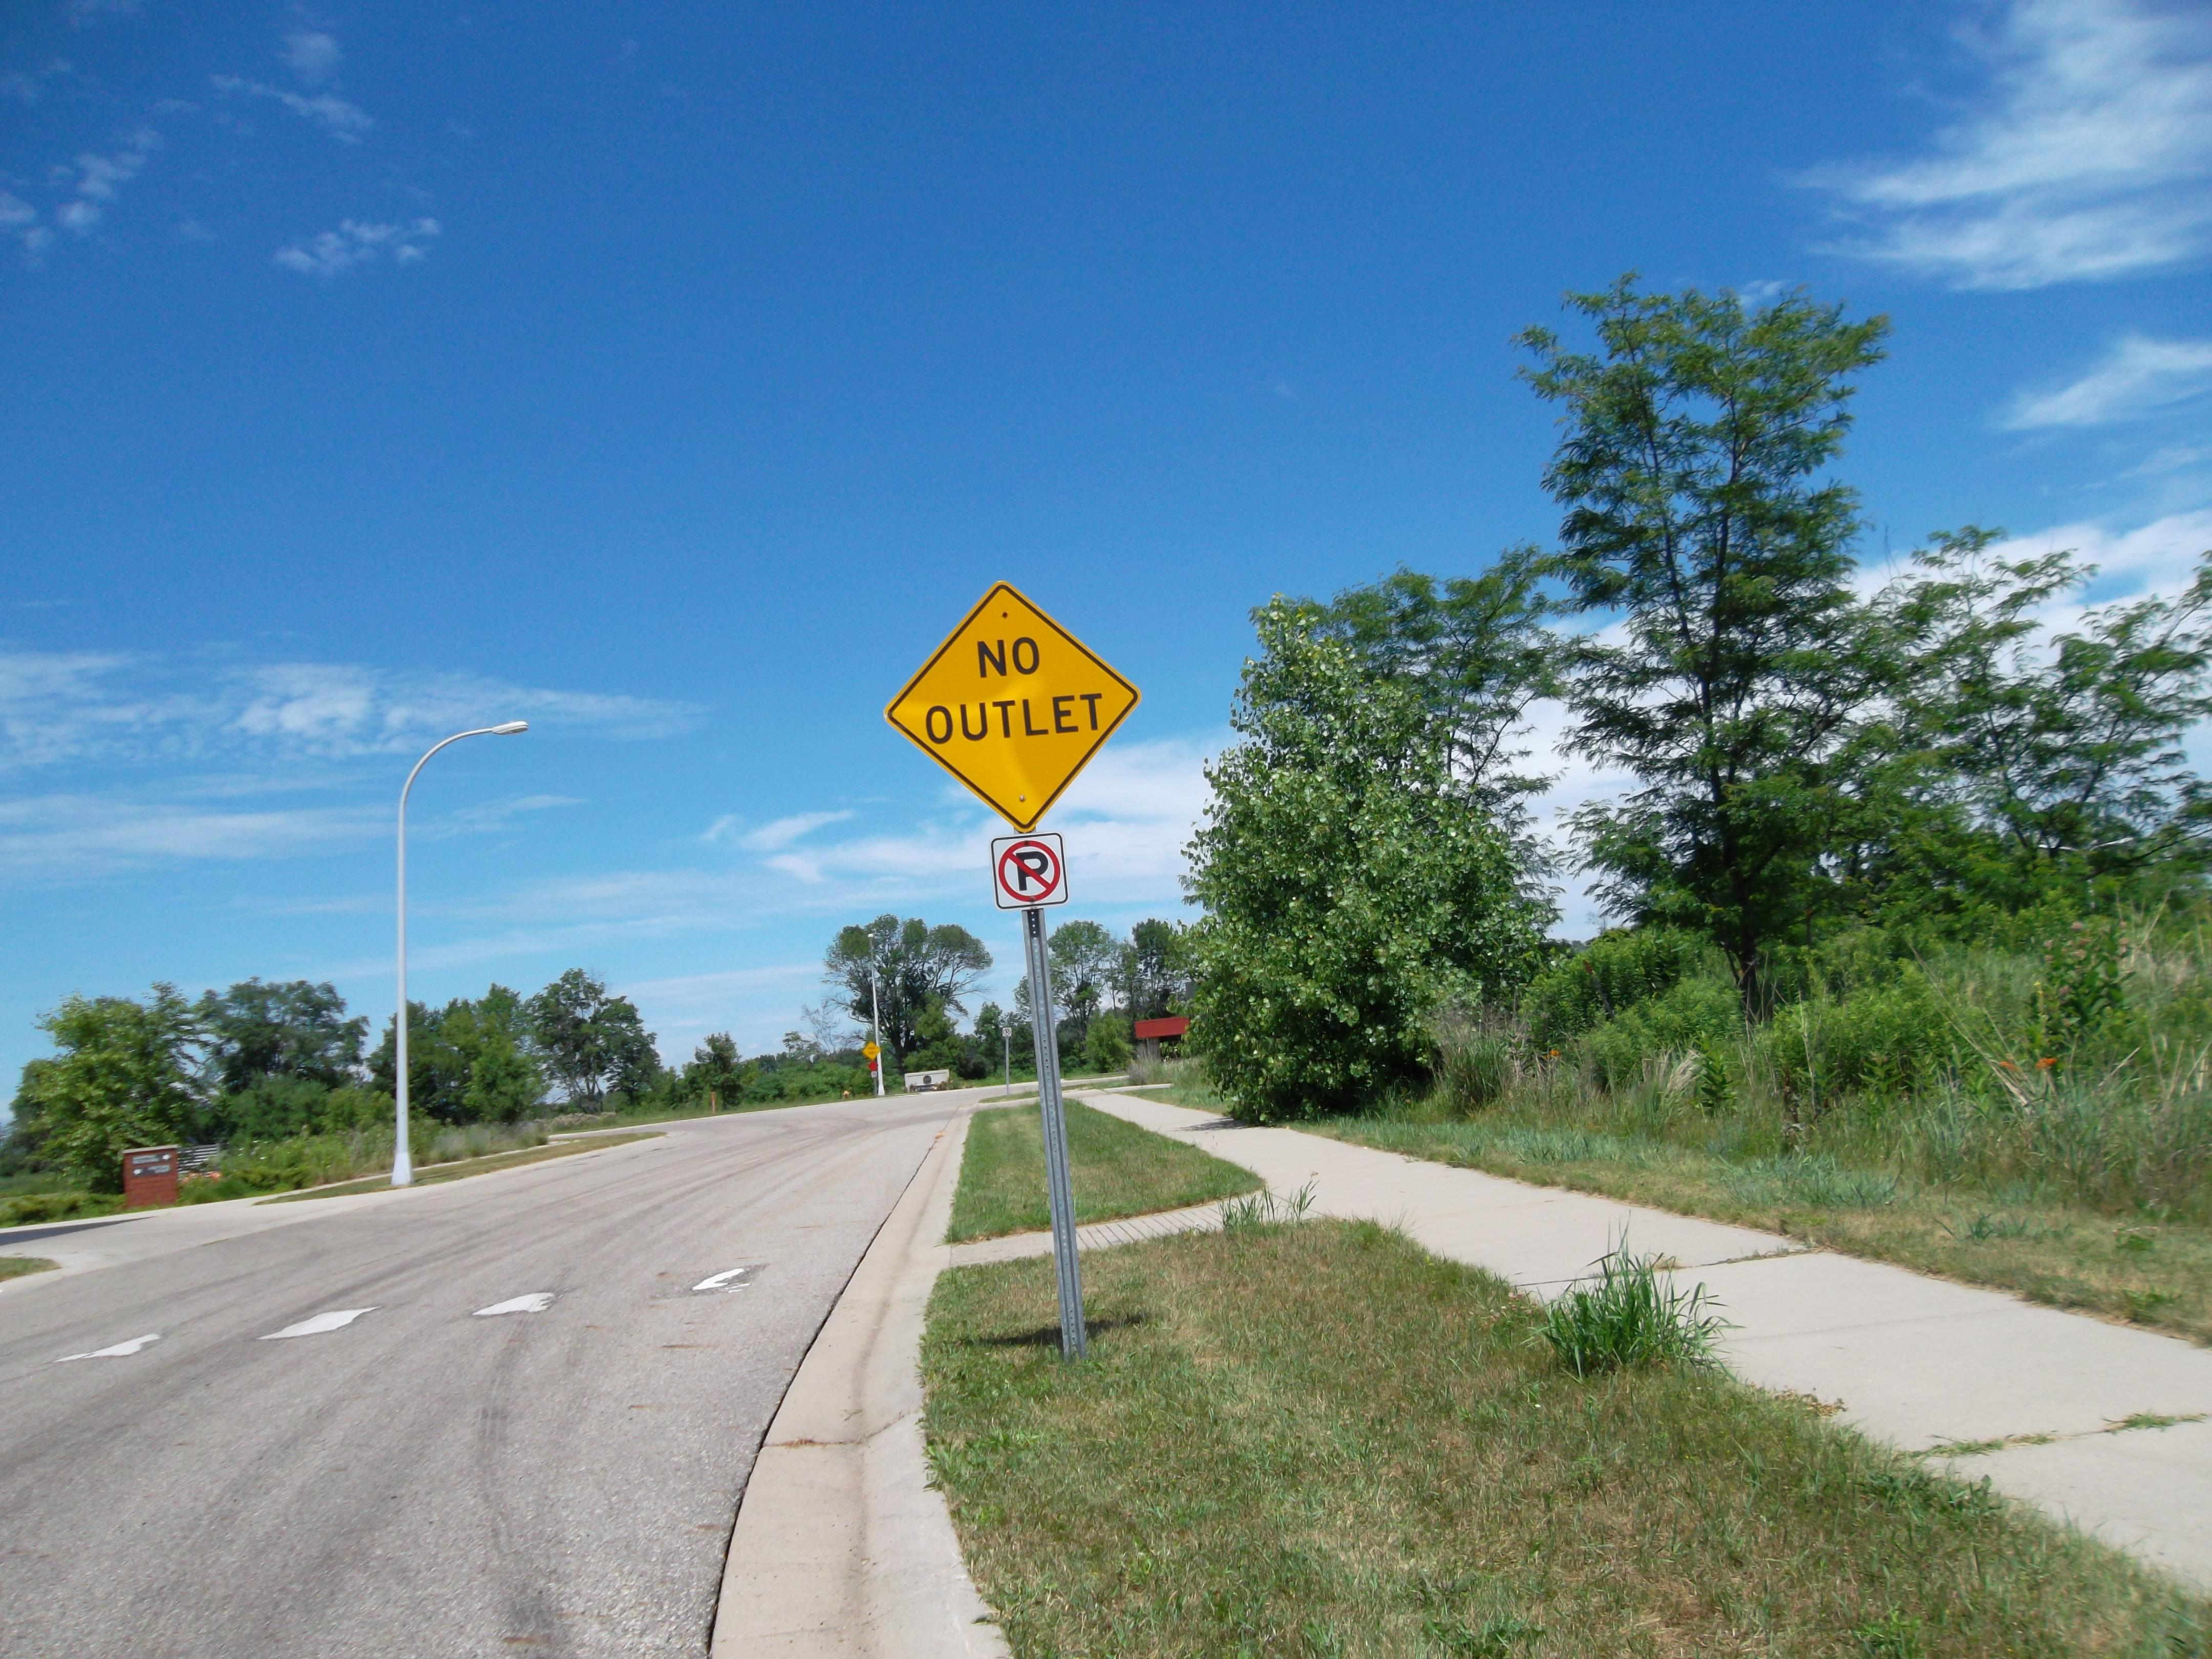regulatory: (989, 828, 1071, 920)
warning: (881, 572, 1151, 833), (860, 1039, 883, 1060)
